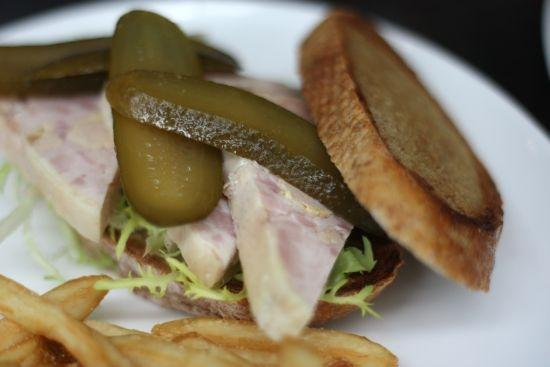lettuce: (14, 172, 65, 282), (164, 249, 248, 301), (92, 262, 188, 300), (58, 220, 116, 272), (318, 279, 382, 319), (324, 237, 375, 287), (0, 185, 42, 244), (0, 159, 18, 201), (142, 230, 168, 257)
